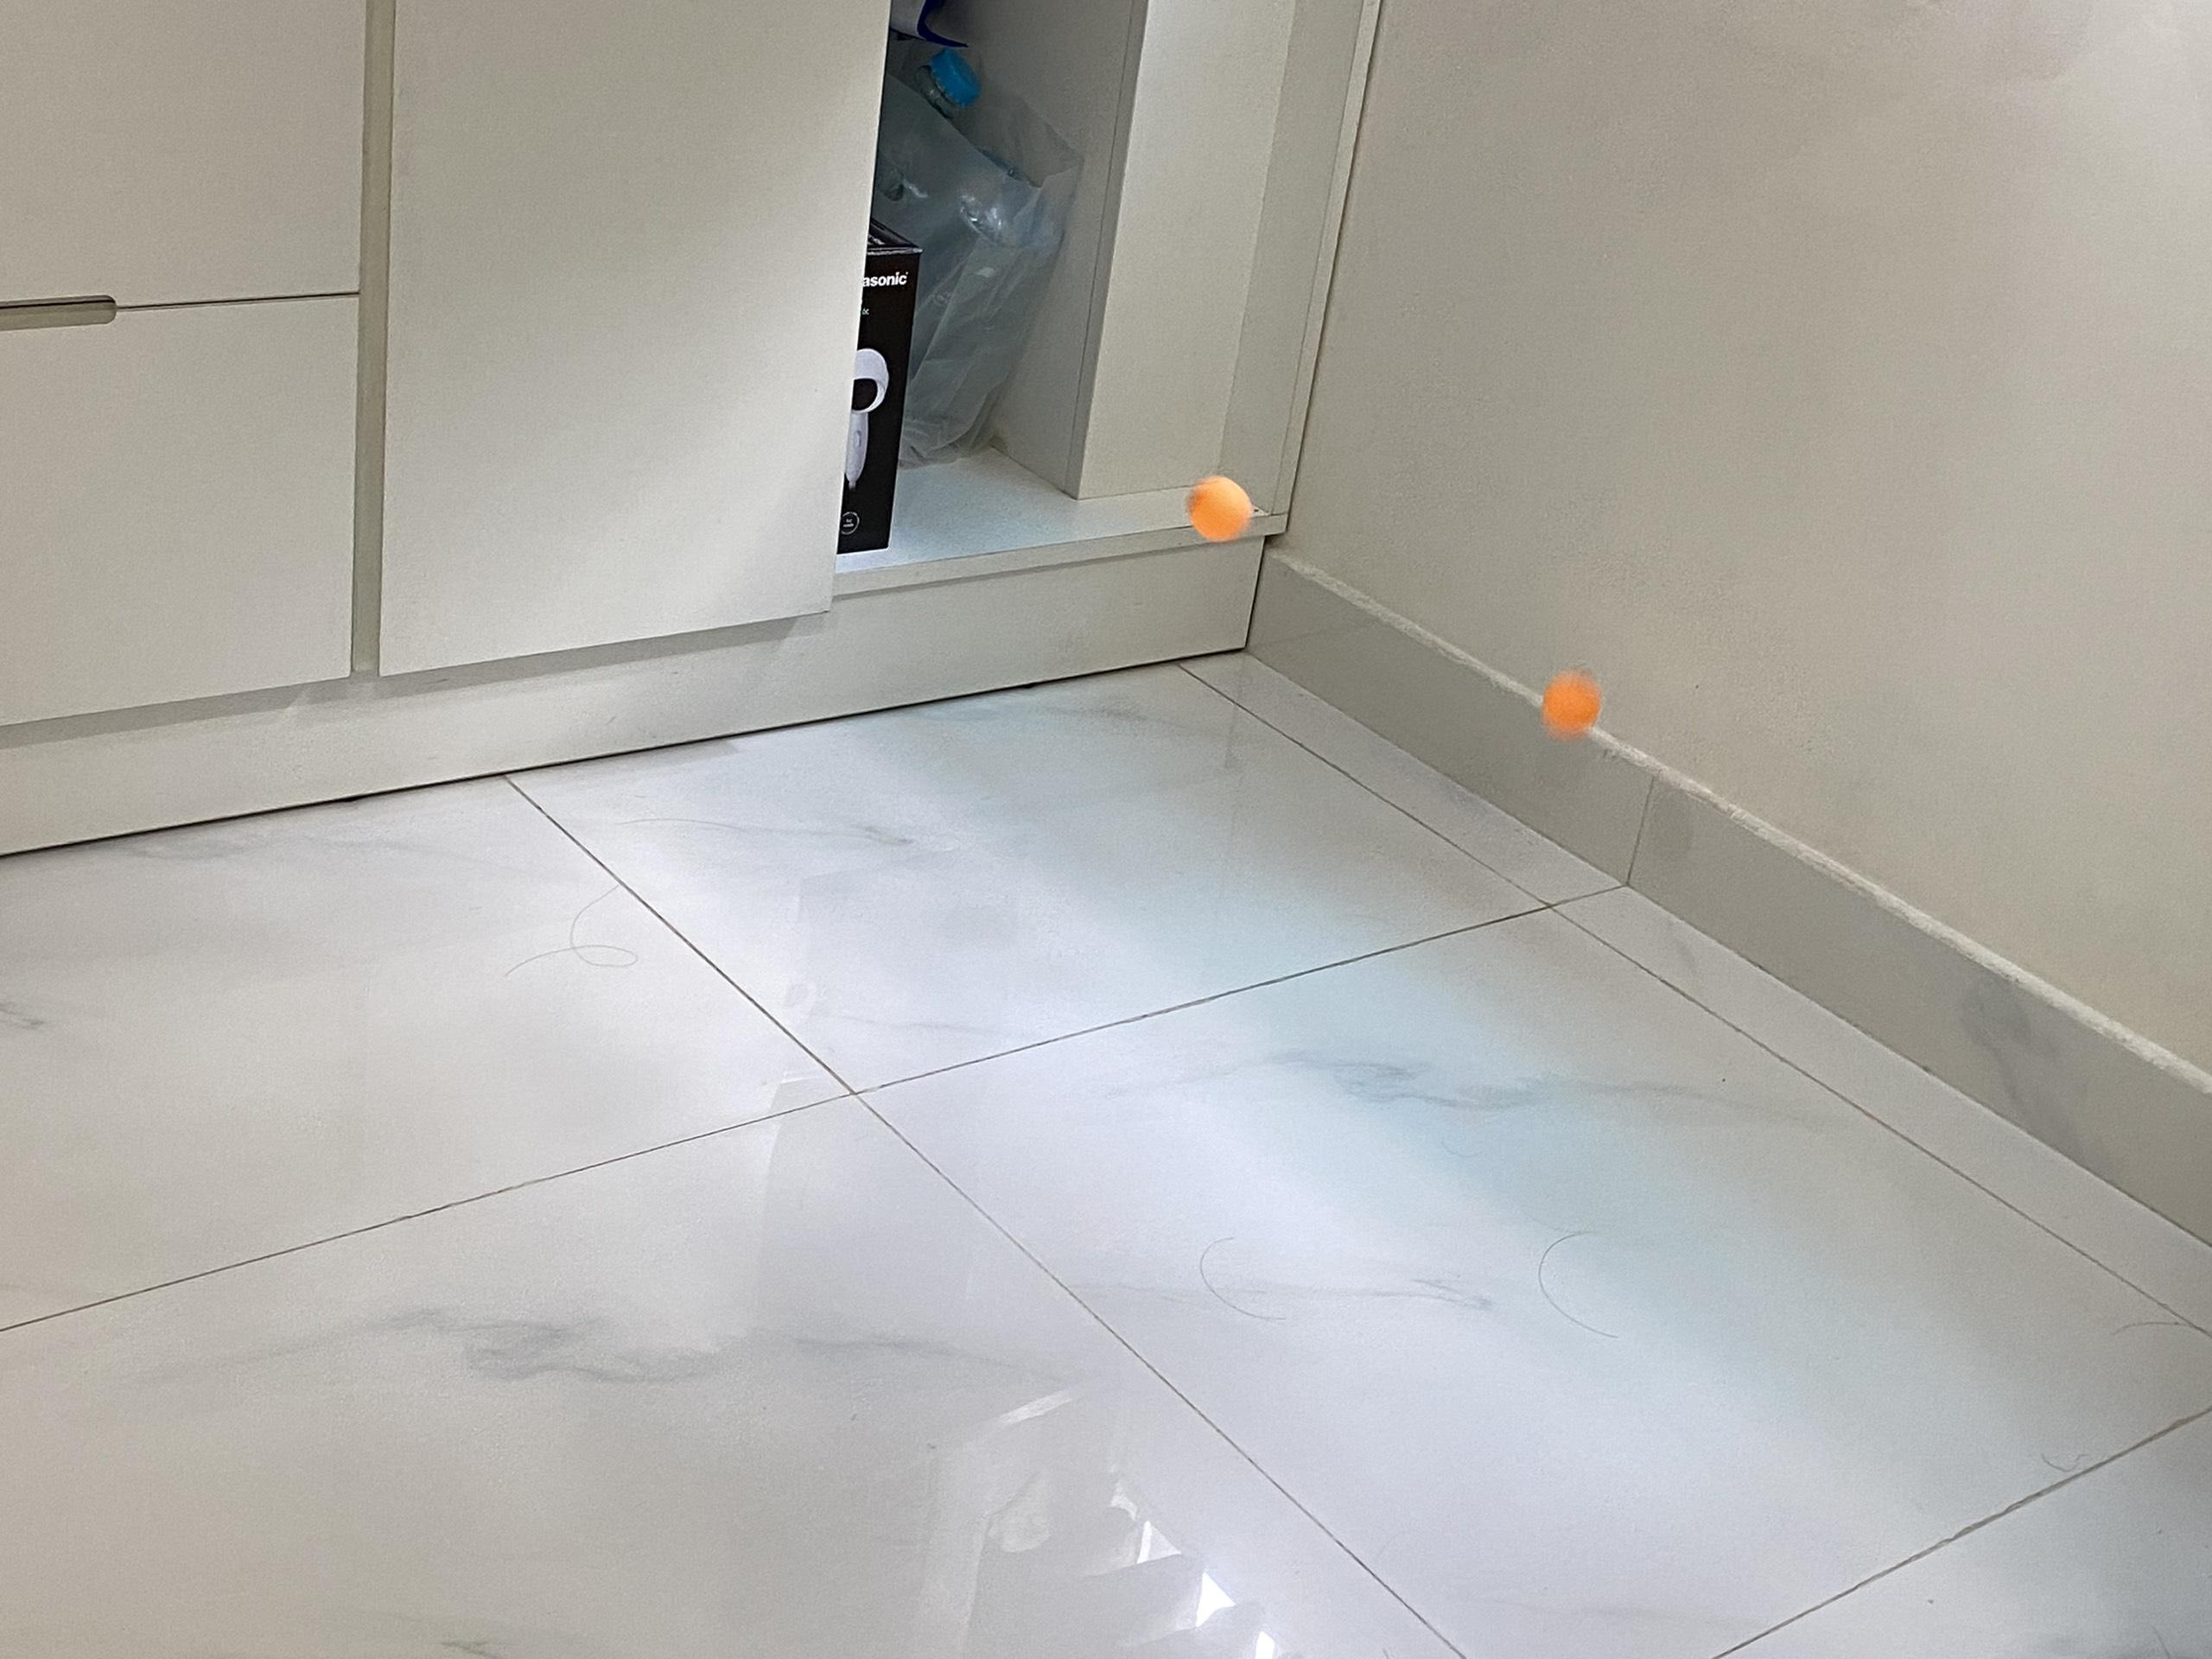oball: (1186, 477, 1259, 542), (1545, 676, 1604, 734)
